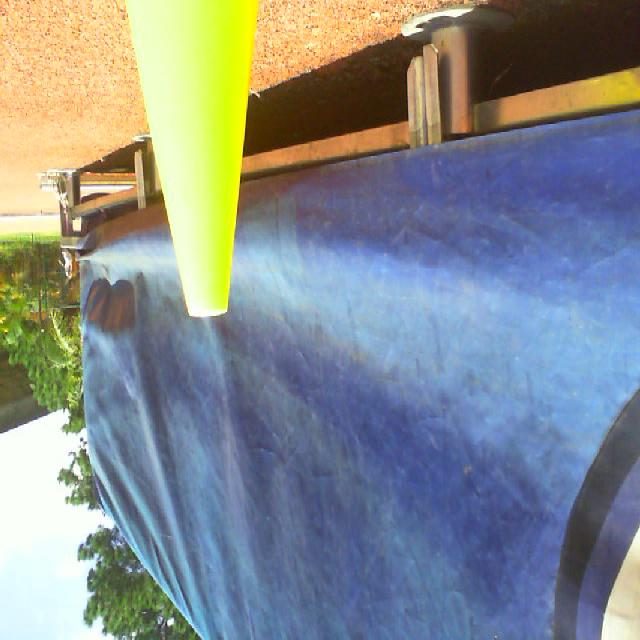cone: (124, 0, 258, 316)
